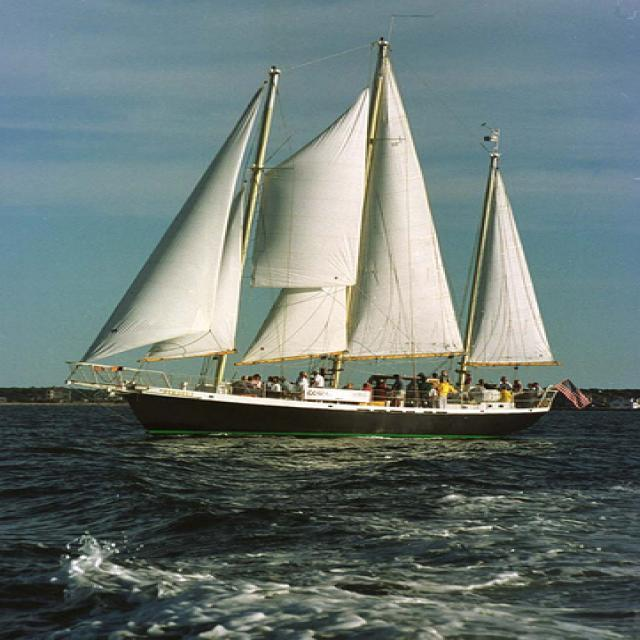Ship: (59, 48, 571, 434)
